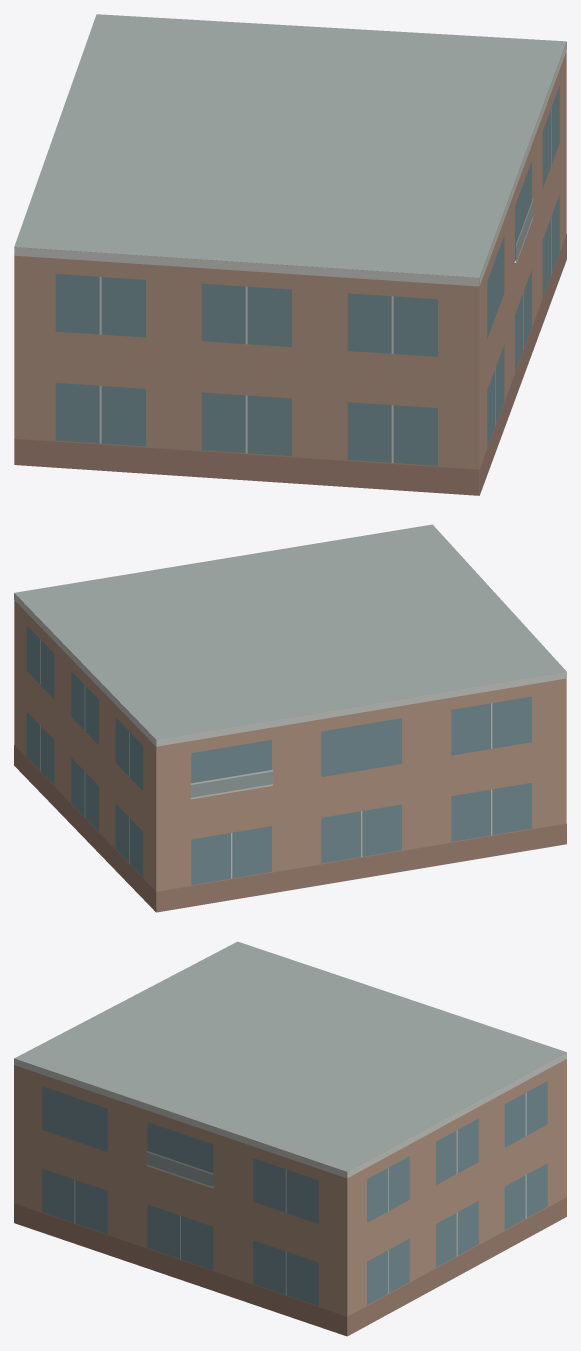
The model's file is survey-upis-32887349.glb.
3 views of the same model, one above another, from view 1: azimuth 30°, elevation 25°; view 2: azimuth 150°, elevation 25°; view 3: azimuth 270°, elevation 25° (orthographic). The views are drawn at different scales.
Parts seen in each view (by area): view 1: survey-upis-32887349.tmp; view 2: survey-upis-32887349.tmp; view 3: survey-upis-32887349.tmp.
Part boxes in pixels (x1,y1,x2,y2): survey-upis-32887349.tmp: [14, 14, 566, 495]; survey-upis-32887349.tmp: [14, 524, 566, 912]; survey-upis-32887349.tmp: [14, 941, 566, 1336].
Bounding box in the file's own units: 18.32 × 6.1 × 18.58.
